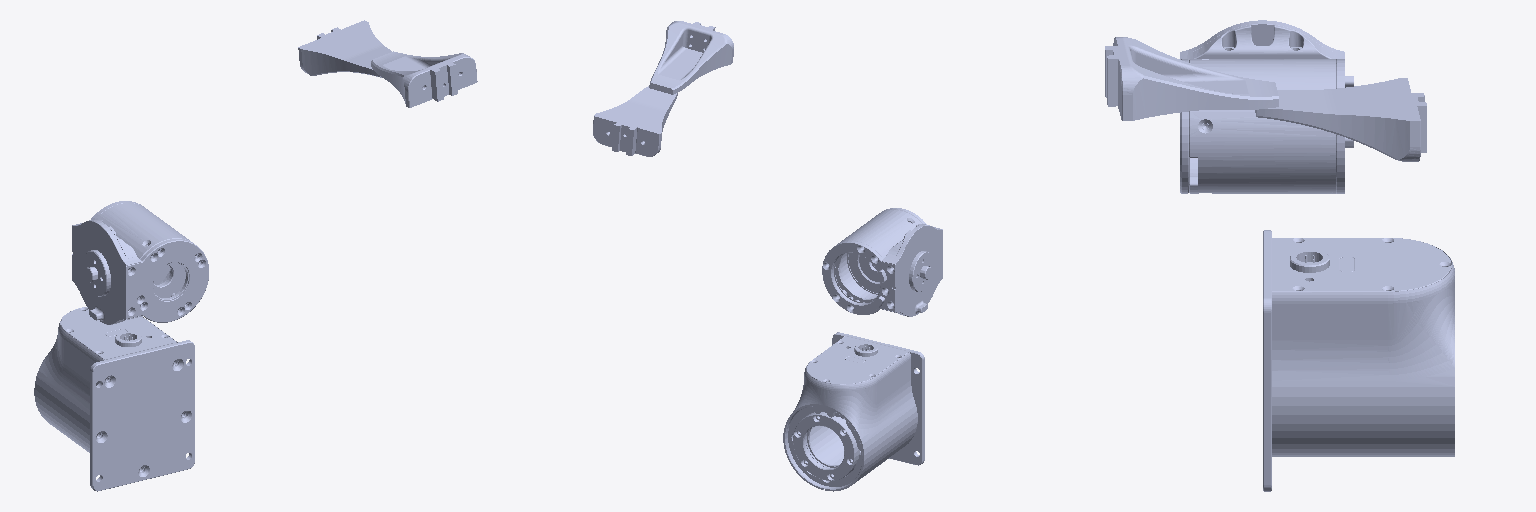
URDF robot description (piper_description):
<?xml version="1.0" encoding="utf-8"?>
<!-- This URDF was automatically created by SolidWorks to URDF Exporter! Originally created by [author] ([email redacted]) 
     Commit Version: 1.6.0-4-g7f85cfe  Build Version: 1.6.7995.38578
     For more information, please see http://wiki.ros.org/sw_urdf_exporter -->
<robot
  name="piper_description">
  <link
    name="base_link">
    <inertial>
      <origin
        xyz="-0.00979274765955341 1.82905827587138E-06 0.0410100126360189"
        rpy="0 0 0" />
      <mass
        value="0.162548567403693" />
      <inertia
        ixx="0.000226596924525071"
        ixy="-7.33972270153965E-08"
        ixz="2.13249977802622E-06"
        iyy="0.000269444772561524"
        iyz="8.15169009611054E-09"
        izz="0.000222318258878636" />
    </inertial>
    <visual>
      <origin
        xyz="0 0 0"
        rpy="0 0 0" />
      <geometry>
        <mesh
          filename="package://piper_description/meshes/base_link.dae" />
      </geometry>
      <material
        name="">
        <color
          rgba="0.792156862745098 0.819607843137255 0.933333333333333 1" />
      </material>
    </visual>
    <collision>
      <origin
        xyz="0 0 0"
        rpy="0 0 0" />
      <geometry>
        <mesh
          filename="package://piper_description/meshes/base_link.STL" />
      </geometry>
    </collision>
  </link>
  <link
    name="link1">
    <inertial>
      <origin
        xyz="0.00131676031927024 0.000310288842008612 -0.00922874512303437"
        rpy="0 0 0" />
      <mass
        value="0.0978679932242825" />
      <inertia
        ixx="7.76684558296782E-05"
        ixy="1.09084650459924E-07"
        ixz="-1.9748053243241E-06"
        iyy="9.24967780161547E-05"
        iyz="9.91284646834582E-07"
        izz="8.24589062407807E-05" />
    </inertial>
    <visual>
      <origin
        xyz="0 0 0"
        rpy="0 0 0" />
      <geometry>
        <mesh
          filename="package://piper_description/meshes/link1.dae" />
      </geometry>
      <material
        name="">
        <color
          rgba="0.792156862745098 0.819607843137255 0.933333333333333 1" />
      </material>
    </visual>
    <collision>
      <origin
        xyz="0 0 0"
        rpy="0 0 0" />
      <geometry>
        <mesh
          filename="package://piper_description/meshes/link1.STL" />
      </geometry>
    </collision>
  </link>
  <joint
    name="joint1"
    type="revolute">
    <origin
      xyz="0 0 0.123"
      rpy="0 0 -1.5708" />
    <parent
      link="base_link" />
    <child
      link="link1" />
    <axis
      xyz="0 0 1" />
    <limit
      lower="-2.618"
      upper="2.618"
      effort="100"
      velocity="3" />
  </joint>
  <link
    name="link2">
    <inertial>
      <origin
        xyz="0.148793602378802 -0.00242026983944119 0.00175154638467948"
        rpy="0 0 0" />
      <mass
        value="0.290888938633388" />
      <inertia
        ixx="0.000148959640166183"
        ixy="-7.37750384371657E-05"
        ixz="-9.68688405196236E-07"
        iyy="0.00172800946632652"
        iyz="-1.09692225564224E-06"
        izz="0.0017754628344594" />
    </inertial>
    <visual>
      <origin
        xyz="0 0 0"
        rpy="0 0 0" />
      <geometry>
        <mesh
          filename="package://piper_description/meshes/link2.dae" />
      </geometry>
      <material
        name="">
        <color
          rgba="0.792156862745098 0.819607843137255 0.933333333333333 1" />
      </material>
    </visual>
    <collision>
      <origin
        xyz="0 0 0"
        rpy="0 0 0" />
      <geometry>
        <mesh
          filename="package://piper_description/meshes/link2.STL" />
      </geometry>
    </collision>
  </link>
  <joint
    name="joint2"
    type="revolute">
    <origin
      xyz="0 0 0"
      rpy="1.5708 -0.034907 -1.5708" />
    <parent
      link="link1" />
    <child
      link="link2" />
    <axis
      xyz="0 0 1" />
    <limit
      lower="0"
      upper="3.14"
      effort="100"
      velocity="3" />
  </joint>
  <link
    name="link3">
    <inertial>
      <origin
        xyz="-0.0996835215213704 0.0349477226691318 0.000508025815507312"
        rpy="0 0 0" />
      <mass
        value="0.290847697793211" />
      <inertia
        ixx="0.000107879011637167"
        ixy="2.92669521203626E-05"
        ixz="6.825922326238E-07"
        iyy="0.000214751671792086"
        iyz="-7.78469047878196E-07"
        izz="0.000241923439340319" />
    </inertial>
    <visual>
      <origin
        xyz="0 0 0"
        rpy="0 0 0" />
      <geometry>
        <mesh
          filename="package://piper_description/meshes/link3.dae" />
      </geometry>
      <material
        name="">
        <color
          rgba="0.792156862745098 0.819607843137255 0.933333333333333 1" />
      </material>
    </visual>
    <collision>
      <origin
        xyz="0 0 0"
        rpy="0 0 0" />
      <geometry>
        <mesh
          filename="package://piper_description/meshes/link3.STL" />
      </geometry>
    </collision>
  </link>
  <joint
    name="joint3"
    type="revolute">
    <origin
      xyz="0.28358 0.028726 0"
      rpy="0 0 0.06604341" />
    <parent
      link="link2" />
    <child
      link="link3" />
    <axis
      xyz="0 0 1" />
    <limit
      lower="-2.697"
      upper="0"
      effort="100"
      velocity="3" />
  </joint>
  <link
    name="link4">
    <inertial>
      <origin
        xyz="0.000276464622387979 -0.00102803669324875 -0.00472830700561663"
        rpy="0 0 0" />
      <mass
        value="0.127087348341362" />
      <inertia
        ixx="3.82011730423416E-05"
        ixy="-4.92358350897513E-08"
        ixz="4.89589432973119E-08"
        iyy="4.87048555222578E-05"
        iyz="6.70802942500512E-08"
        izz="4.10592077565559E-05" />
    </inertial>
    <visual>
      <origin
        xyz="0 0 0"
        rpy="0 0 0" />
      <geometry>
        <mesh
          filename="package://piper_description/meshes/link4.dae" />
      </geometry>
      <material
        name="">
        <color
          rgba="0.792156862745098 0.819607843137255 0.933333333333333 1" />
      </material>
    </visual>
    <collision>
      <origin
        xyz="0 0 0"
        rpy="0 0 0" />
      <geometry>
        <mesh
          filename="package://piper_description/meshes/link4.STL" />
      </geometry>
    </collision>
  </link>
  <joint
    name="joint4"
    type="revolute">
    <origin
      xyz="-0.24221 0.068514 0"
      rpy="-1.5708 0 1.3826" />
    <parent
      link="link3" />
    <child
      link="link4" />
    <axis
      xyz="0 0 1" />
    <limit
      lower="-1.832"
      upper="1.832"
      effort="100"
      velocity="3" />
  </joint>
  <link
    name="link5">
    <inertial>
      <origin
        xyz="8.82262433516967E-05 0.0566829014808256 -0.00196119720482461"
        rpy="0 0 0" />
      <mass
        value="0.144711242639457" />
      <inertia
        ixx="4.39644313662493E-05"
        ixy="-3.59259686444846E-08"
        ixz="-1.89747741386183E-08"
        iyy="5.63173920951307E-05"
        iyz="-2.1540716689785E-07"
        izz="4.88713664675268E-05" />
    </inertial>
    <visual>
      <origin
        xyz="0 0 0"
        rpy="0 0 0" />
      <geometry>
        <mesh
          filename="package://piper_description/meshes/link5.dae" />
      </geometry>
      <material
        name="">
        <color
          rgba="0.792156862745098 0.819607843137255 0.933333333333333 1" />
      </material>
    </visual>
    <collision>
      <origin
        xyz="0 0 0"
        rpy="0 0 0" />
      <geometry>
        <mesh
          filename="package://piper_description/meshes/link5.STL" />
      </geometry>
    </collision>
  </link>
  <joint
    name="joint5"
    type="revolute">
    <origin
      xyz="0 0 0"
      rpy="1.5708 0 0" />
    <parent
      link="link4" />
    <child
      link="link5" />
    <axis
      xyz="0 0 1" />
    <limit
      lower="-1.22"
      upper="1.22"
      effort="100"
      velocity="3" />
  </joint>
  <link
    name="link6">
    <inertial>
      <origin
        xyz="0.00103120214523473 0.0121761387587524 0.0315480874960164"
        rpy="0 0 0" />
      <mass
        value="0.195187143240719" />
      <inertia
        ixx="6.43790256535539E-05"
        ixy="-1.2366166157046E-06"
        ixz="1.97664606328472E-07"
        iyy="0.000126146396374301"
        iyz="2.41157078516408E-06"
        izz="0.000154087076816444" />
    </inertial>
    <visual>
      <origin
        xyz="0 0 0"
        rpy="0 0 0" />
      <geometry>
        <mesh
          filename="package://piper_description/meshes/link6.dae" />
      </geometry>
      <material
        name="">
        <color
          rgba="0.792156862745098 0.819607843137255 0.933333333333333 1" />
      </material>
    </visual>
    <collision>
      <origin
        xyz="0 0 0"
        rpy="0 0 0" />
      <geometry>
        <mesh
          filename="package://piper_description/meshes/link6.STL" />
      </geometry>
    </collision>
  </link>
  <joint
    name="joint6"
    type="revolute">
    <origin
      xyz="0 0.091 0.0014165"
      rpy="-1.5708 -1.5708 0" />
    <parent
      link="link5" />
    <child
      link="link6" />
    <axis
      xyz="0 0 1" />
    <limit
      lower="-3.14"
      upper="3.14"
      effort="100"
      velocity="3" />
  </joint>
  <link
    name="link7">
    <inertial>
      <origin
        xyz="-0.000277778383727112 -0.0467673043650824 -0.00921029491873201"
        rpy="0 0 0" />
      <mass
        value="0.02648229234527" />
      <inertia
        ixx="9.99787479924589E-06"
        ixy="-1.57548495096104E-07"
        ixz="-2.71342775003487E-08"
        iyy="6.1795212293655E-06"
        iyz="-1.58939803580081E-06"
        izz="1.42102717246564E-05" />
    </inertial>
    <visual>
      <origin
        xyz="0 0 0"
        rpy="0 0 0" />
      <geometry>
        <mesh
          filename="package://piper_description/meshes/link7.dae" />
      </geometry>
      <material
        name="">
        <color
          rgba="0.792156862745098 0.819607843137255 0.933333333333333 1" />
      </material>
    </visual>
    <collision>
      <origin
        xyz="0 0 0"
        rpy="0 0 0" />
      <geometry>
        <mesh
          filename="package://piper_description/meshes/link7.STL" />
      </geometry>
    </collision>
  </link>
  <joint
    name="joint7"
    type="prismatic">
    <origin
      xyz="0 0 0.13503"
      rpy="1.5708 0 1.5708" />
    <parent
      link="link6" />
    <child
      link="link7" />
    <axis
      xyz="0 0 -1" />
    <limit
      lower="0"
      upper="0.04"
      effort="10"
      velocity="1" />
  </joint>
  <link
    name="link8">
    <inertial>
      <origin
        xyz="0.000277816920932317 0.0467673824063769 -0.00921030054508036"
        rpy="0 0 0" />
      <mass
        value="0.0264822021416248" />
      <inertia
        ixx="9.99779119357223E-06"
        ixy="-1.57542283433504E-07"
        ixz="2.71367446701359E-08"
        iyy="6.17952441557932E-06"
        iyz="1.58939319453383E-06"
        izz="1.4210192754512E-05" />
    </inertial>
    <visual>
      <origin
        xyz="0 0 0"
        rpy="0 0 0" />
      <geometry>
        <mesh
          filename="package://piper_description/meshes/link8.dae" />
      </geometry>
      <material
        name="">
        <color
          rgba="0.792156862745098 0.819607843137255 0.933333333333333 1" />
      </material>
    </visual>
    <collision>
      <origin
        xyz="0 0 0"
        rpy="0 0 0" />
      <geometry>
        <mesh
          filename="package://piper_description/meshes/link8.STL" />
      </geometry>
    </collision>
  </link>
  <joint
    name="joint8"
    type="prismatic">
    <origin
      xyz="0 0 0.13503"
      rpy="-1.5708 0 1.5708" />
    <parent
      link="link6" />
    <child
      link="link8" />
    <axis
      xyz="0 0 1" />
    <limit
      lower="-0.04"
      upper="0"
      effort="10"
      velocity="1" />
  </joint>
</robot>

--- What the picture shows (computed from the rendered views, not written in the file) ---
The picture shows the robot from 3 angles, left to right: view 1: azimuth 30°, elevation 25°; view 2: azimuth 150°, elevation 25°; view 3: azimuth 270°, elevation 25°; orthographic projection.
Robot: piper_description — 9 links, 8 joints (6 revolute, 2 prismatic); root link base_link; default pose: all joints at 0.
Links seen in each view (by area): view 1: base_link, link1, link8, link7; view 2: base_link, link1, link8, link7; view 3: base_link, link1, link8, link7.
Link boxes in pixels (x1,y1,x2,y2): base_link: [34, 307, 194, 491]; link1: [72, 201, 208, 324]; link8: [371, 51, 477, 107]; link7: [298, 20, 391, 77]; base_link: [783, 332, 924, 491]; link1: [822, 208, 942, 316]; link8: [649, 21, 733, 94]; link7: [593, 86, 677, 156]; base_link: [1263, 230, 1454, 491]; link1: [1180, 20, 1353, 193]; link8: [1105, 37, 1278, 120]; link7: [1255, 78, 1426, 161].
Bounding box of the posed robot: 0.267 × 0.1566 × 0.2915 m (x, y, z).
4 mesh visuals loaded from 9 distinct referenced files (4 Collada DAE); not drawn: 5 (reference not matched to a file when rendering).